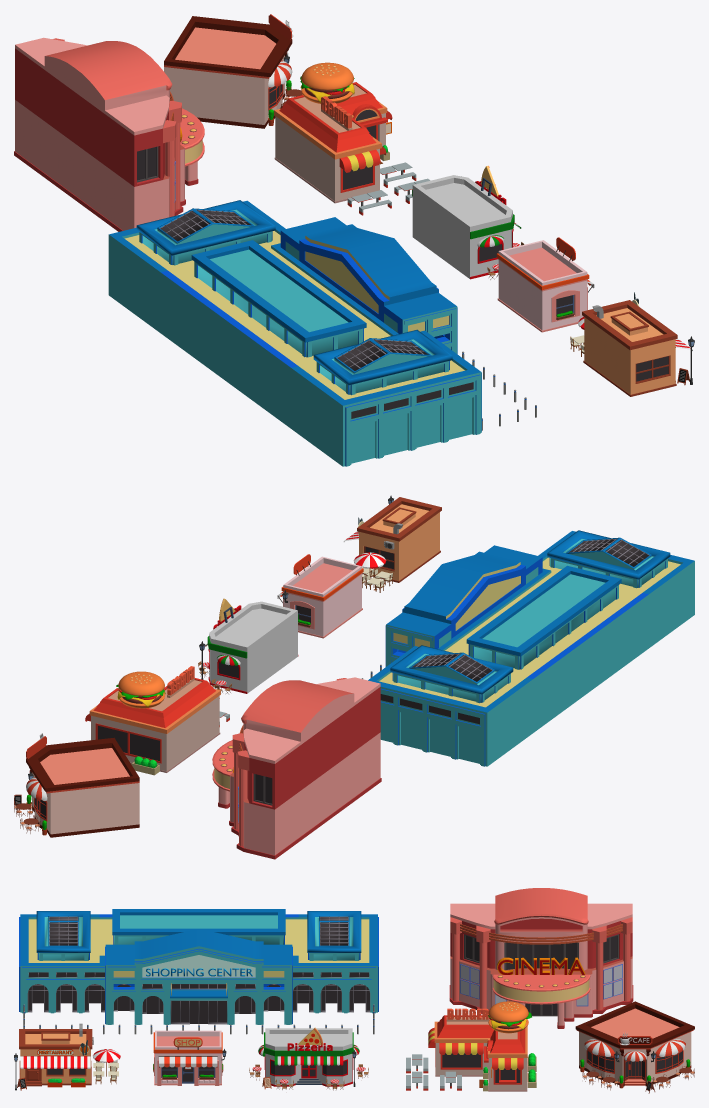
File: BusinessBuildingsPackC.obj
3 renders of one model, top to bottom at view 1: azimuth 30°, elevation 25°; view 2: azimuth 150°, elevation 25°; view 3: azimuth 270°, elevation 25°, orthographic. The views are drawn at different scales.
Visible parts, largest first — view 1: ShoppingCenterBuilding_ShoppingCenterBuilding_Cube.079_Cube.001, Cinema_Cinema_Text.006_Text.001, BurgerBuilding_BurgerBuilding_Cube.056_Cube.001, CafeBuilding_CafeBuilding_Cube.068_Cube.001, PizzaBuilding_PizzaBuilding_Cube.001, RestaurantBuilding_RestaurantBuilding_Cube.003_Cube.001, ShopBuilding_ShopBuilding_Cube.027_Cube.001; view 2: ShoppingCenterBuilding_ShoppingCenterBuilding_Cube.079_Cube.001, Cinema_Cinema_Text.006_Text.001, CafeBuilding_CafeBuilding_Cube.068_Cube.001, BurgerBuilding_BurgerBuilding_Cube.056_Cube.001, PizzaBuilding_PizzaBuilding_Cube.001, RestaurantBuilding_RestaurantBuilding_Cube.003_Cube.001, ShopBuilding_ShopBuilding_Cube.027_Cube.001; view 3: ShoppingCenterBuilding_ShoppingCenterBuilding_Cube.079_Cube.001, Cinema_Cinema_Text.006_Text.001, BurgerBuilding_BurgerBuilding_Cube.056_Cube.001, CafeBuilding_CafeBuilding_Cube.068_Cube.001, PizzaBuilding_PizzaBuilding_Cube.001, RestaurantBuilding_RestaurantBuilding_Cube.003_Cube.001, ShopBuilding_ShopBuilding_Cube.027_Cube.001, PizzaTables_PizzaTables_Cube.053_Cube.001.
Part boxes in pixels (box(x1,y1,x2,y2)): ShoppingCenterBuilding_ShoppingCenterBuilding_Cube.079_Cube.001: box(108, 200, 536, 466); Cinema_Cinema_Text.006_Text.001: box(14, 37, 204, 231); BurgerBuilding_BurgerBuilding_Cube.056_Cube.001: box(274, 62, 430, 215); CafeBuilding_CafeBuilding_Cube.068_Cube.001: box(164, 14, 302, 128); PizzaBuilding_PizzaBuilding_Cube.001: box(412, 165, 521, 279); RestaurantBuilding_RestaurantBuilding_Cube.003_Cube.001: box(570, 292, 694, 396); ShopBuilding_ShopBuilding_Cube.027_Cube.001: box(496, 237, 594, 332); ShoppingCenterBuilding_ShoppingCenterBuilding_Cube.079_Cube.001: box(361, 530, 694, 766); Cinema_Cinema_Text.006_Text.001: box(212, 677, 381, 859); CafeBuilding_CafeBuilding_Cube.068_Cube.001: box(14, 733, 139, 837); BurgerBuilding_BurgerBuilding_Cube.056_Cube.001: box(85, 666, 229, 775); PizzaBuilding_PizzaBuilding_Cube.001: box(205, 598, 298, 693); RestaurantBuilding_RestaurantBuilding_Cube.003_Cube.001: box(343, 495, 441, 592); ShopBuilding_ShopBuilding_Cube.027_Cube.001: box(277, 554, 363, 638); ShoppingCenterBuilding_ShoppingCenterBuilding_Cube.079_Cube.001: box(19, 909, 378, 1034); Cinema_Cinema_Text.006_Text.001: box(449, 888, 633, 1028); BurgerBuilding_BurgerBuilding_Cube.056_Cube.001: box(406, 1001, 536, 1091); CafeBuilding_CafeBuilding_Cube.068_Cube.001: box(575, 1001, 694, 1093); PizzaBuilding_PizzaBuilding_Cube.001: box(258, 1027, 359, 1086); RestaurantBuilding_RestaurantBuilding_Cube.003_Cube.001: box(14, 1023, 120, 1090); ShopBuilding_ShopBuilding_Cube.027_Cube.001: box(153, 1030, 226, 1085); PizzaTables_PizzaTables_Cube.053_Cube.001: box(249, 1064, 368, 1090).
Size of what is drawn, in the model's own units: 15.9 by 5.57 by 34.27.
Materials: 1 (1 with a texture image).
